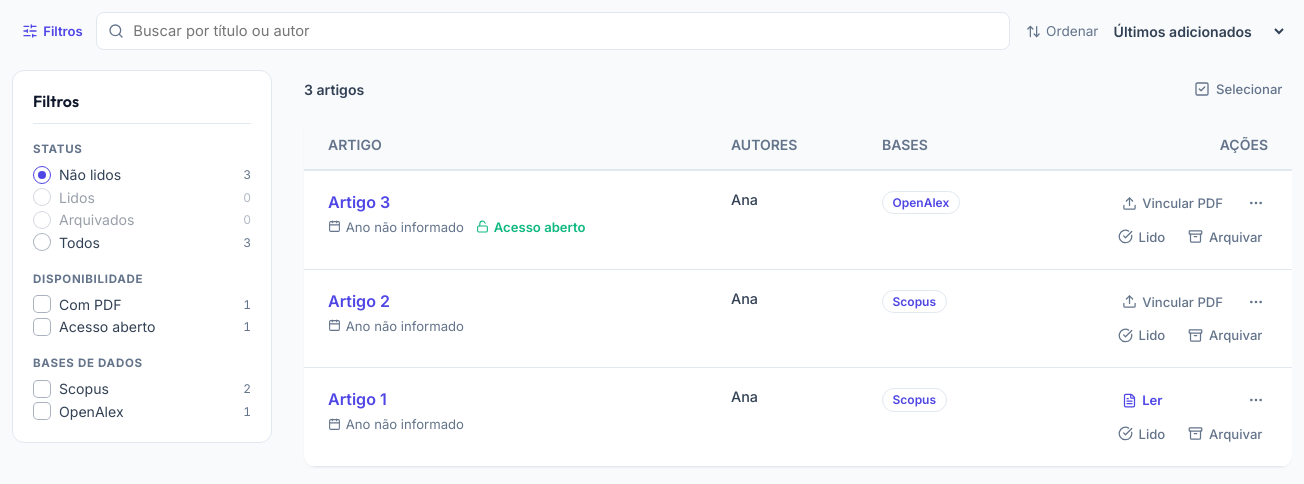
Test case: ProjectArticlesTab filter panel › clears every filter from the panel header
Click the checkbox named "Scopus," at (42, 389), box [33,380,51,398]
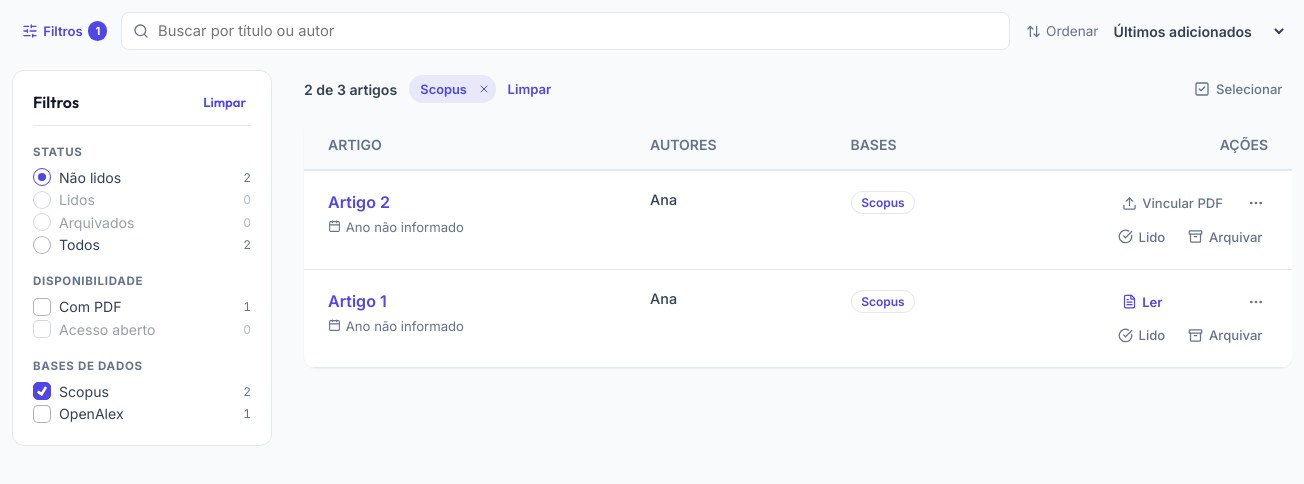
Click the 2nd button "Limpar" at (225, 102), box [198,91,251,113]
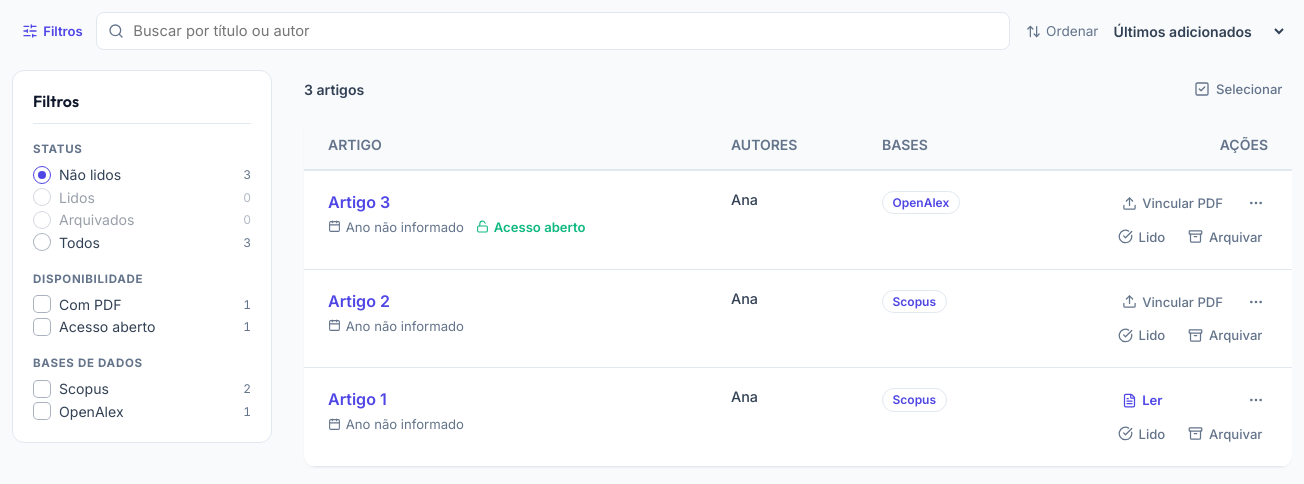
Result: the checkbox named "Scopus," is not checked at [33,380,51,398]
Result: the button "Artigo 3" is shown at [328,192,390,212]
